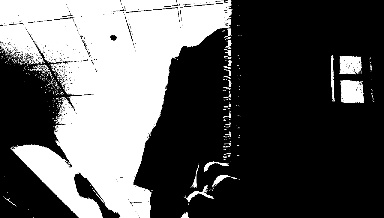H: (328, 51, 371, 104)
